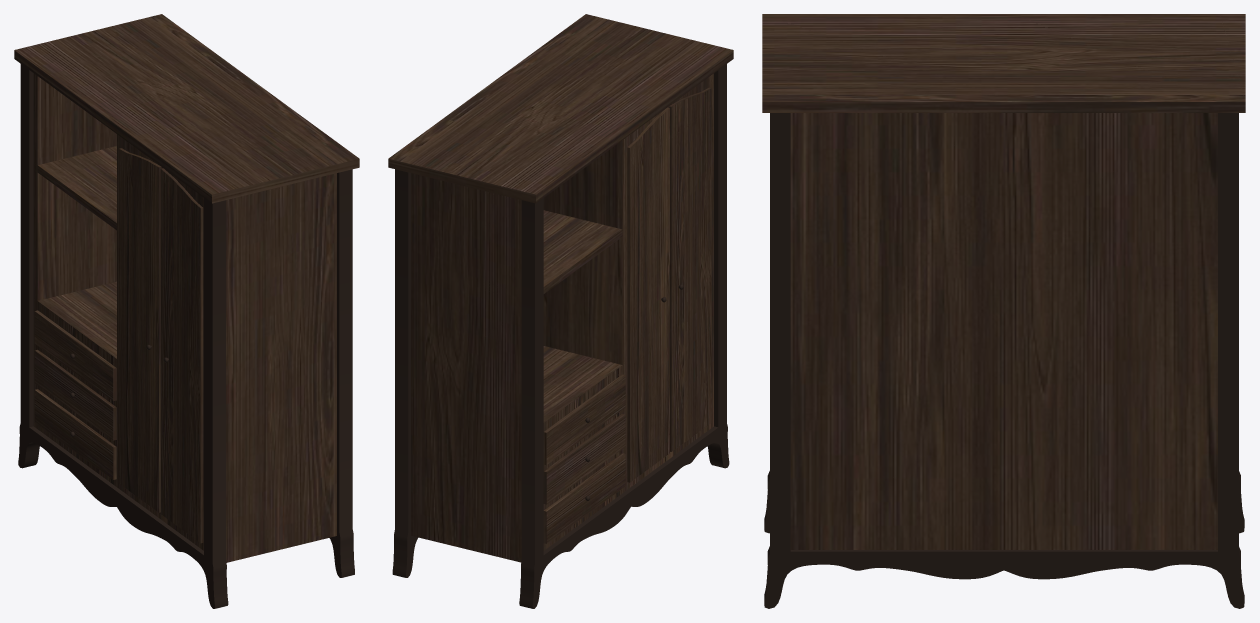
File: F_Wardrobe.fbx
3 views of the same model, side by side, from view 1: azimuth 30°, elevation 25°; view 2: azimuth 150°, elevation 25°; view 3: azimuth 270°, elevation 25° (orthographic). The views are drawn at different scales.
Parts seen in each view (by area): view 1: F_Wardrobe_01; view 2: F_Wardrobe_01; view 3: F_Wardrobe_01.
Part boxes in pixels (x1,y1,x2,y2): F_Wardrobe_01: (14,14,359,608); F_Wardrobe_01: (388,14,733,608); F_Wardrobe_01: (762,14,1245,608).
Size of the model in its own units: 76.92 by 207 by 178.
1 material, 1 textured.
